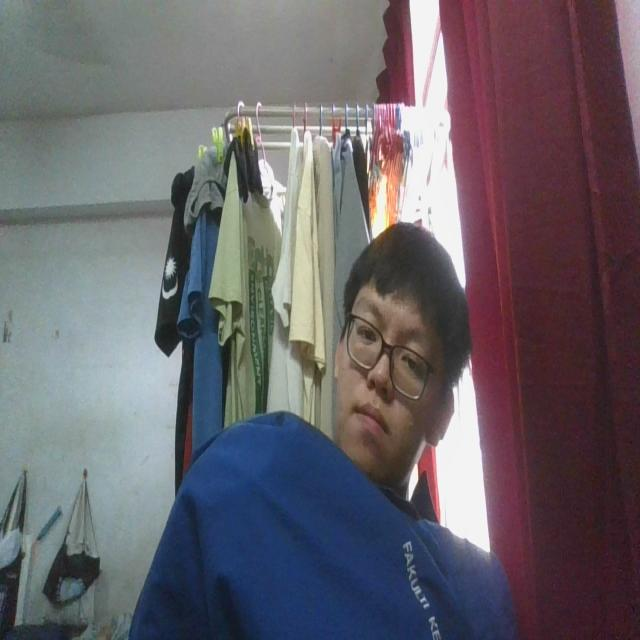person_without_labcoat: (130, 222, 518, 639)
